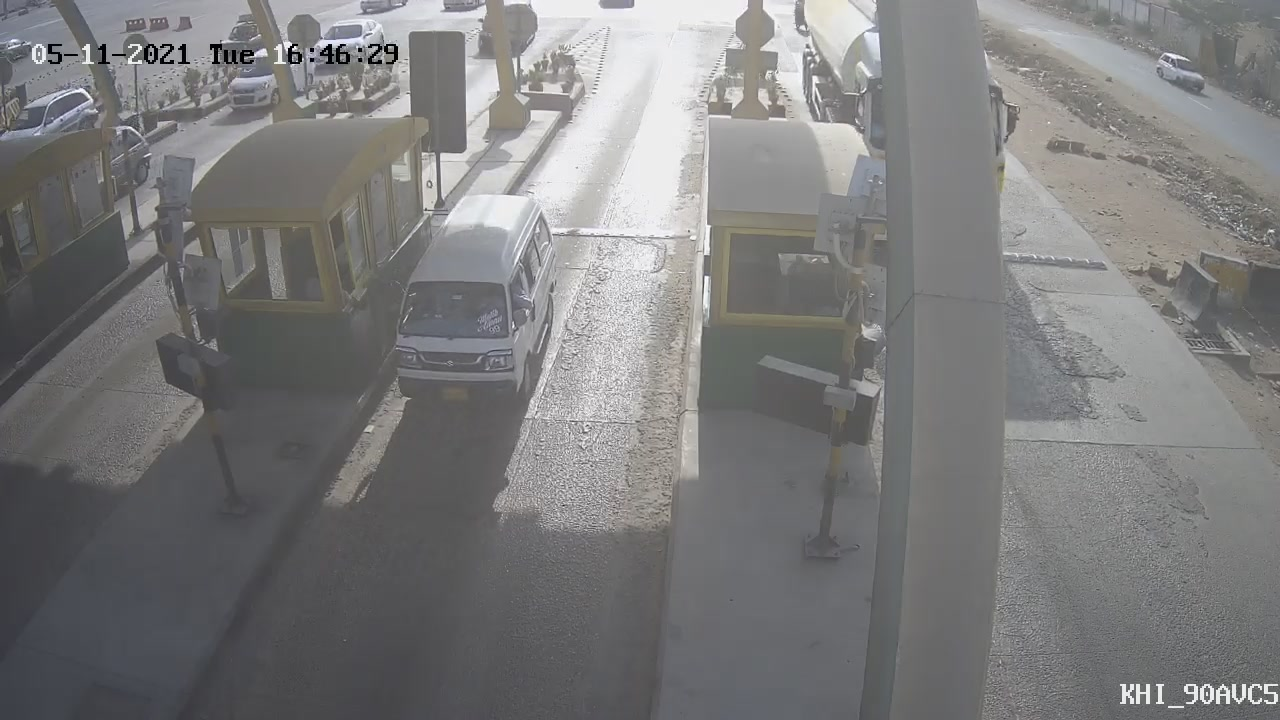F1: (374, 173, 576, 431)
